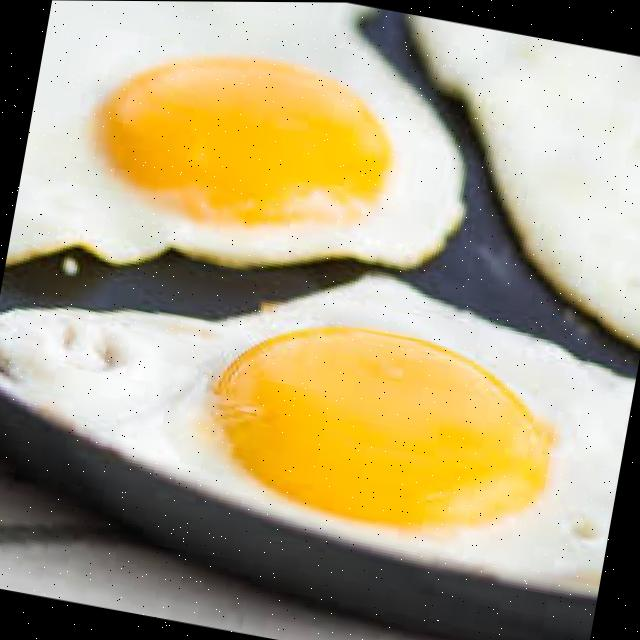Egg: (0, 276, 635, 591), (8, 0, 461, 266)
